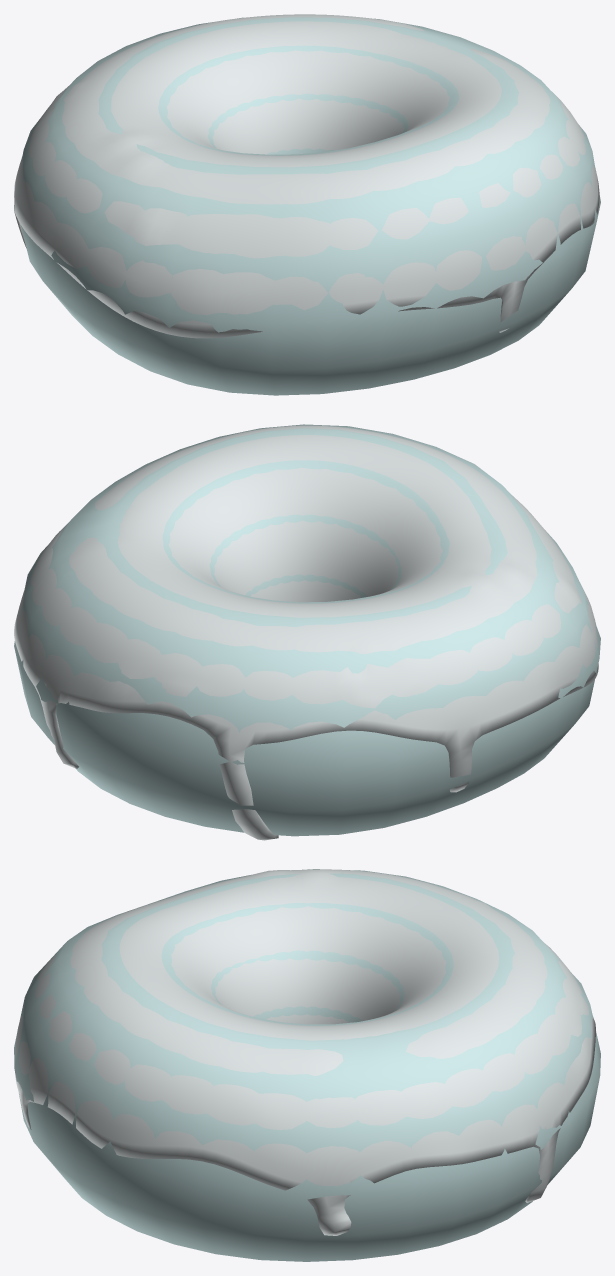
The model's file is doughnut.glb.
The picture shows the model from 3 angles, top to bottom: view 1: azimuth 30°, elevation 25°; view 2: azimuth 150°, elevation 25°; view 3: azimuth 270°, elevation 25°; orthographic projection.
Parts seen in each view (by area): view 1: Icing, Doughnut; view 2: Icing, Doughnut; view 3: Icing, Doughnut.
Boxes of the visible parts, left/top/right/bottom form: Icing: left=14, top=14, right=599, bottom=338; Doughnut: left=20, top=17, right=600, bottom=395; Icing: left=14, top=425, right=598, bottom=840; Doughnut: left=14, top=424, right=600, bottom=836; Icing: left=15, top=869, right=595, bottom=1235; Doughnut: left=14, top=869, right=600, bottom=1261.
Bounding box in the file's own units: 1.27 × 0.5591 × 1.26.
